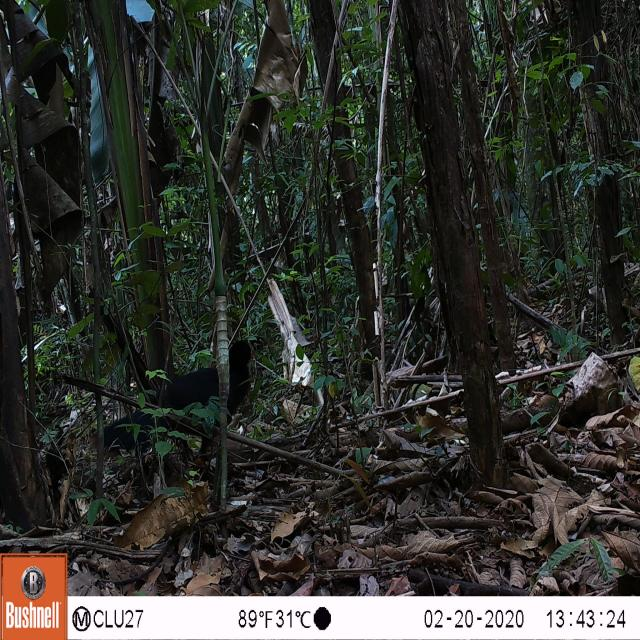Salvins Curassow: (95, 316, 266, 496)
